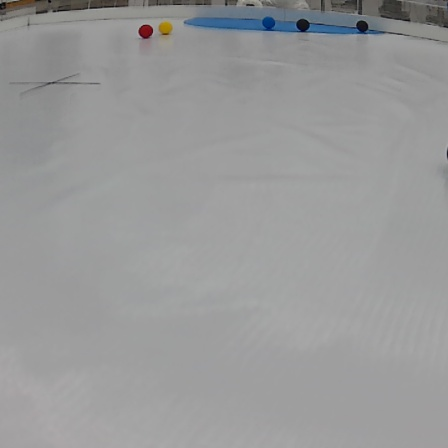black: (294, 17, 312, 34), (355, 19, 370, 32)
blue: (260, 15, 278, 34)
blue_base: (181, 14, 392, 38)
red: (136, 20, 156, 39)
yellow: (157, 19, 175, 36)
